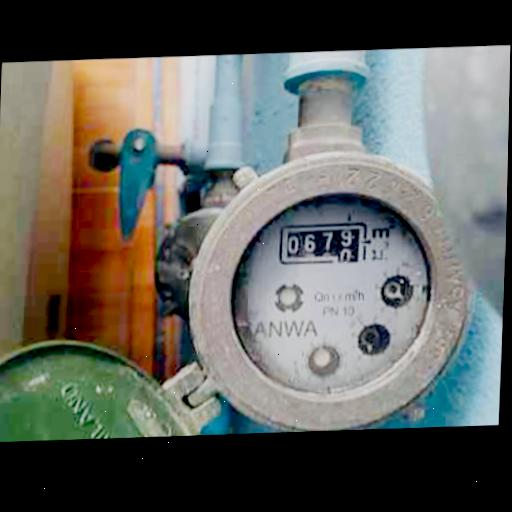0: (286, 230, 303, 257)
6: (301, 228, 320, 258)
7: (318, 228, 339, 257)
9: (336, 227, 360, 262)
border_water_meter_number: (279, 219, 368, 266)
